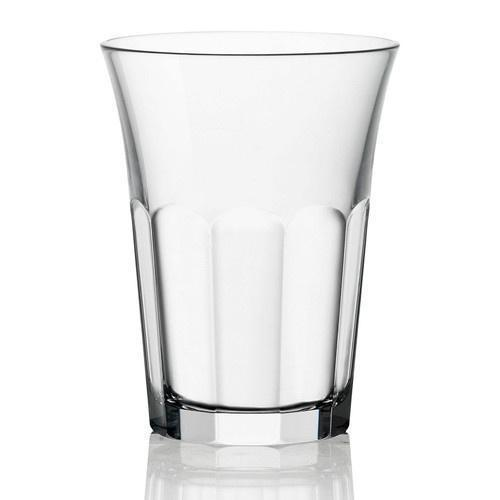glass-normal: (99, 21, 400, 486)
